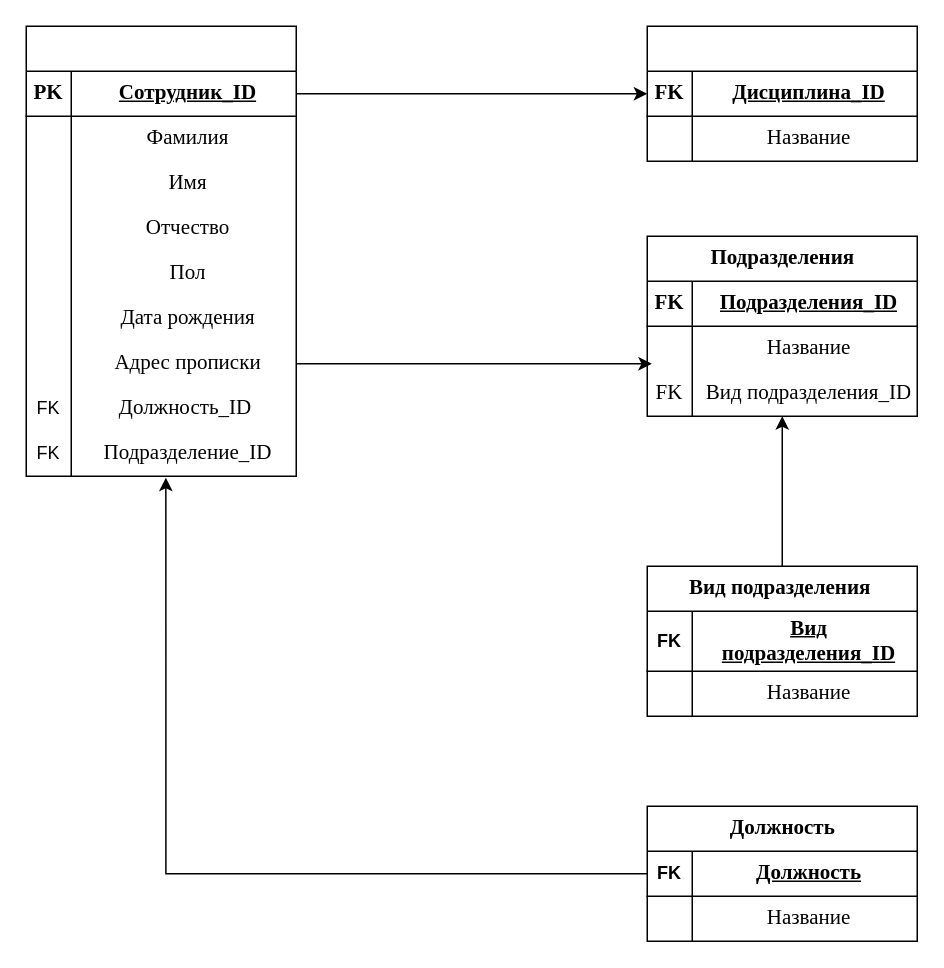
Image size: 944x968. Some labels were removed from this diagram. Each missing label, with the box of its shape:
Дисциплины: (646, 25, 917, 161)
Сотрудники: (25, 25, 296, 476)
